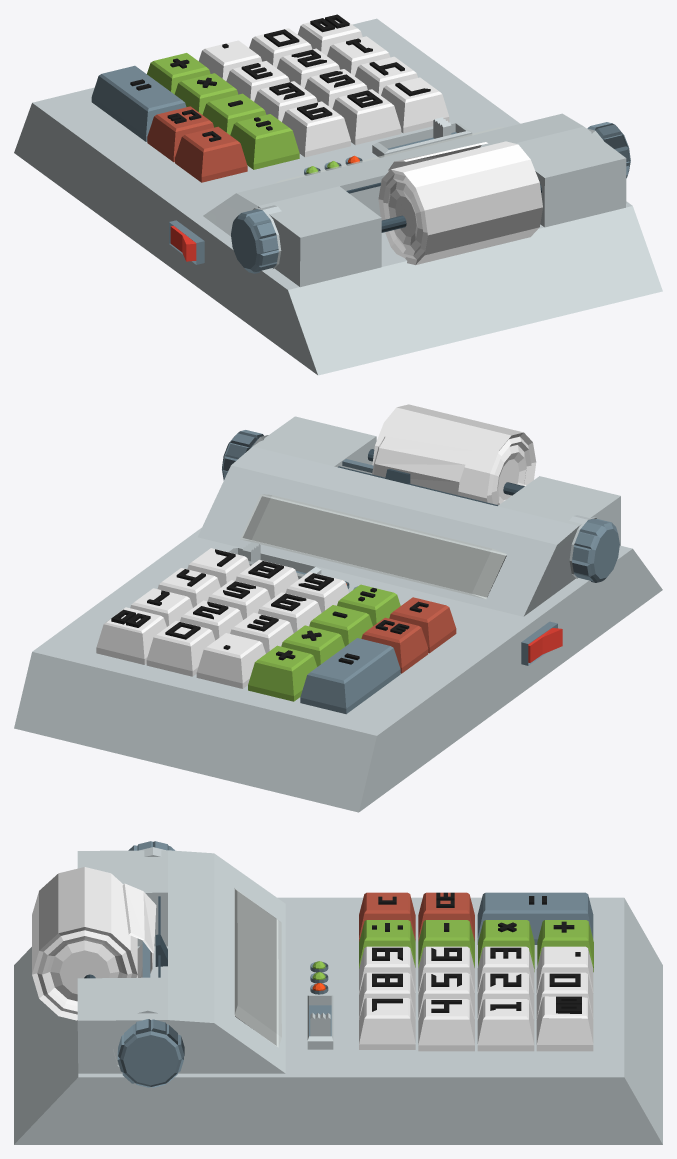
3 views of the same model, one above another, from view 1: azimuth 30°, elevation 25°; view 2: azimuth 150°, elevation 25°; view 3: azimuth 270°, elevation 25° (orthographic). The views are drawn at different scales.
Visible parts, largest first — view 1: group1466548647, group48887536, group1325531539, group23065195, group389477461.003, group1297306164, group502161026, group1294525603, group2058303266, group595121944, group389477461.002, group2033548222 (+15 smaller); view 2: group1466548647, group48887536, group127134564, group1325531539, group23065195, group1065846868, group2033548222, group454468518, group389477461.001, group595121944, group1280017540, group389477461.003 (+16 smaller); view 3: group1466548647, group48887536, group1325531539, group127134564, group74567260, group23065195, group2033548222, group1296408862, group1587545857, group2058303266, group1065846868, group454468518 (+15 smaller).
Part boxes in pixels (x1,y1,x2,y2): group1466548647: [14, 18, 662, 375]; group48887536: [203, 113, 626, 287]; group1325531539: [378, 141, 542, 265]; group23065195: [91, 65, 186, 141]; group389477461.003: [175, 126, 247, 182]; group1297306164: [282, 101, 350, 157]; group502161026: [332, 89, 401, 145]; group1294525603: [230, 114, 299, 169]; group2058303266: [381, 77, 449, 133]; group595121944: [231, 209, 278, 273]; group389477461.002: [147, 106, 213, 162]; group2033548222: [297, 14, 362, 55]; group1466548647: [14, 527, 662, 812]; group48887536: [198, 416, 620, 616]; group127134564: [240, 494, 506, 598]; group1325531539: [372, 404, 536, 505]; group23065195: [300, 638, 400, 714]; group1065846868: [372, 436, 473, 495]; group2033548222: [96, 607, 166, 664]; group454468518: [196, 633, 265, 688]; group389477461.001: [248, 645, 316, 701]; group595121944: [572, 519, 619, 582]; group1280017540: [146, 621, 215, 676]; group389477461.003: [389, 597, 456, 653]; group1466548647: [14, 897, 662, 1144]; group48887536: [77, 850, 285, 1073]; group1325531539: [32, 867, 137, 1020]; group127134564: [234, 888, 281, 1047]; group74567260: [117, 1019, 184, 1087]; group23065195: [477, 892, 593, 944]; group2033548222: [536, 996, 593, 1051]; group1296408862: [477, 999, 534, 1051]; group1587545857: [418, 999, 474, 1051]; group2058303266: [359, 998, 415, 1049]; group1065846868: [122, 883, 156, 977]; group454468518: [536, 946, 593, 994].
Bounding box in the file's own units: 1.82 × 0.7031 × 2.52.
